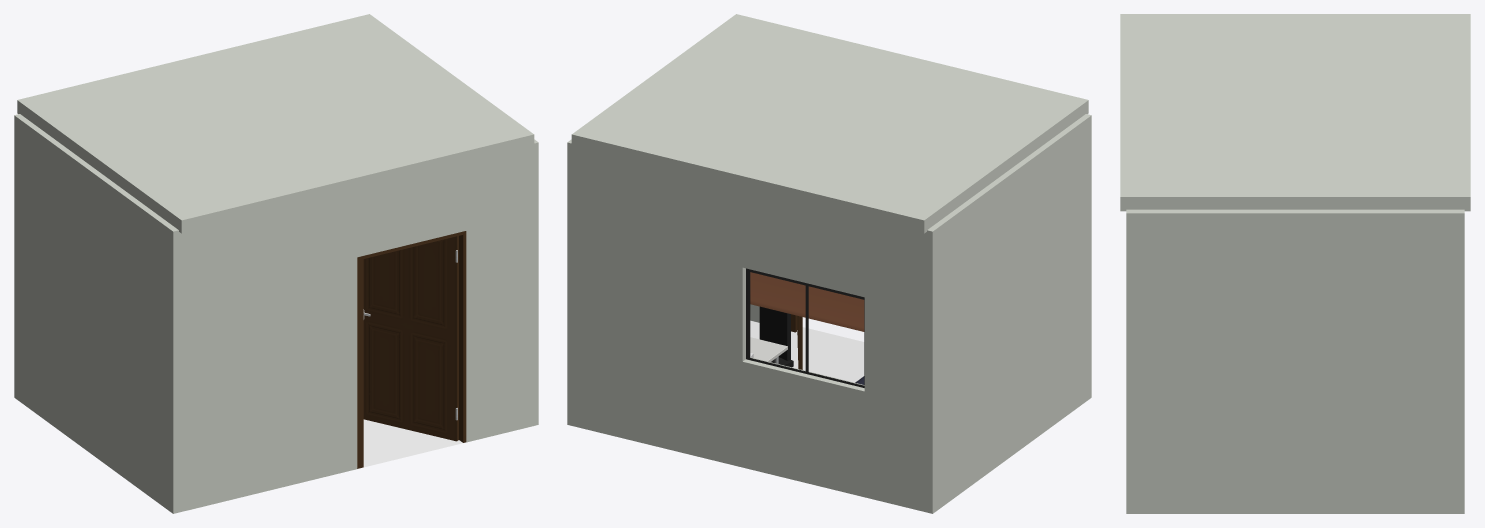
Rendered from kamer_Dekker.glb.
The picture shows the model from 3 angles, left to right: view 1: azimuth 30°, elevation 25°; view 2: azimuth 150°, elevation 25°; view 3: azimuth 270°, elevation 25°; orthographic projection. The views are drawn at different scales.
Parts seen in each view (by area): view 1: ceiling.001, leftWall, frontWallLeft, frontWallRight, Door, frontWallTop, wallPiece, Frame, floor, rightWall; view 2: ceiling.001, leftWall, backWallRight, backWallTop, backWallLeft, backWallTop.001, window_blinder, floor, rightWall, window_body, Chair_Backrest, Desk_Top_Corner; view 3: rightWall, ceiling.001.
Boxes of the visible parts, x1,y1,x2,y2 form: ceiling.001: (17,14,534,233); leftWall: (14,115,184,513); frontWallLeft: (188,191,357,509); frontWallRight: (466,148,533,442); Door: (363,236,458,441); frontWallTop: (344,164,466,260); wallPiece: (180,228,214,510); Frame: (357,231,466,468); floor: (363,419,464,467); rightWall: (527,139,538,425); ceiling.001: (571,14,1088,233); leftWall: (921,114,1091,513); backWallRight: (574,148,745,467); backWallTop: (571,320,927,497); backWallLeft: (864,219,938,513); backWallTop.001: (571,148,931,311); window_blinder: (750,272,864,331); floor: (750,320,864,382); rightWall: (567,139,578,425); window_body: (746,268,864,387); Chair_Backrest: (759,306,793,367); Desk_Top_Corner: (750,337,787,361); rightWall: (1126,209,1464,513); ceiling.001: (1120,14,1470,211).
Bounding box in the file's own units: 32.52 × 25.08 × 25.35.
Materials: 24 (9 with a texture image).
